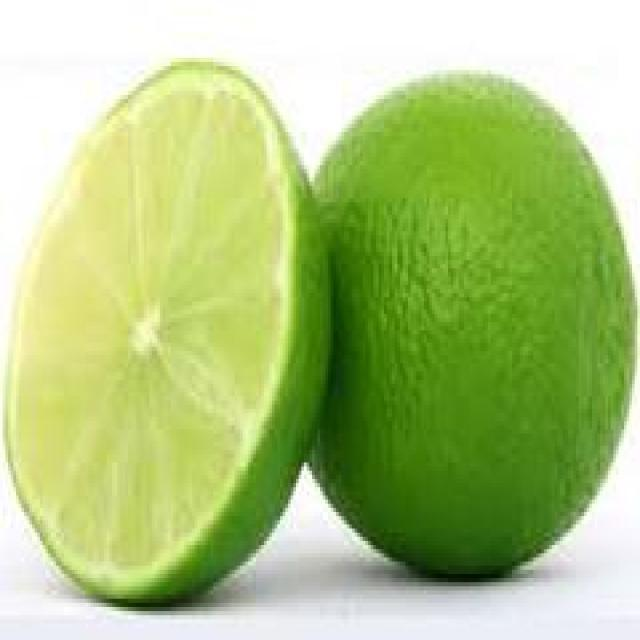Lemon: (16, 54, 360, 612)
